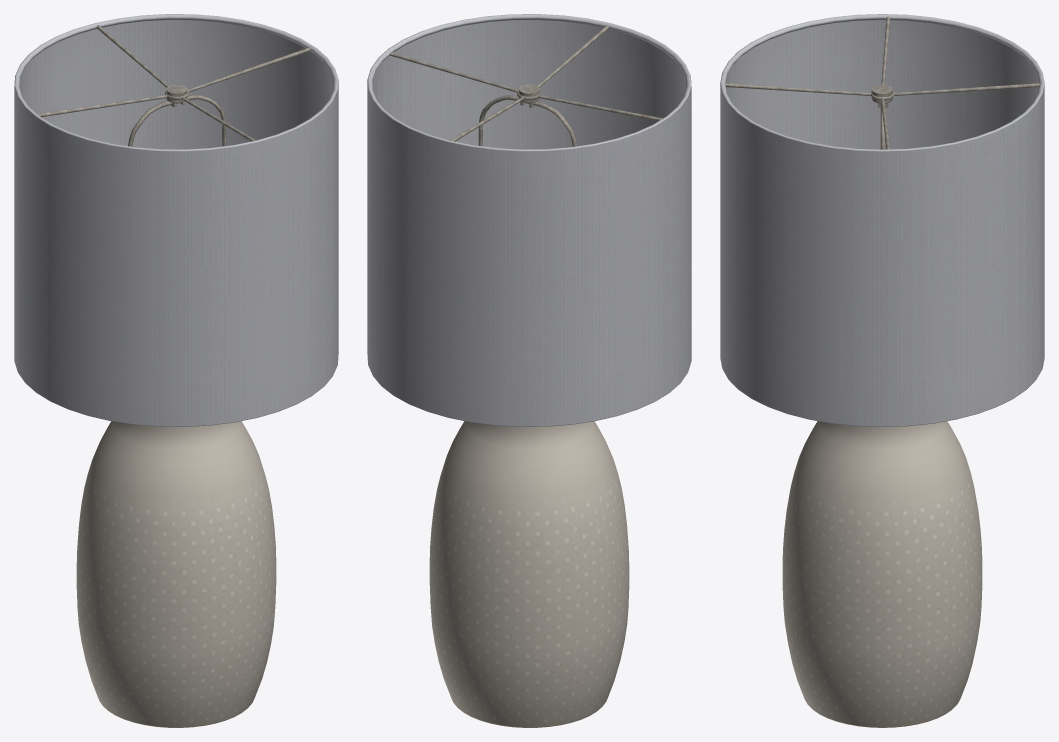
Rendered from abo-B07QJLF9XP.glb.
3 views of the same model, side by side, from view 1: azimuth 30°, elevation 25°; view 2: azimuth 150°, elevation 25°; view 3: azimuth 270°, elevation 25° (orthographic).
Size of the model in its own units: 0.217 by 0.453 by 0.217.
1 material, 1 textured.
